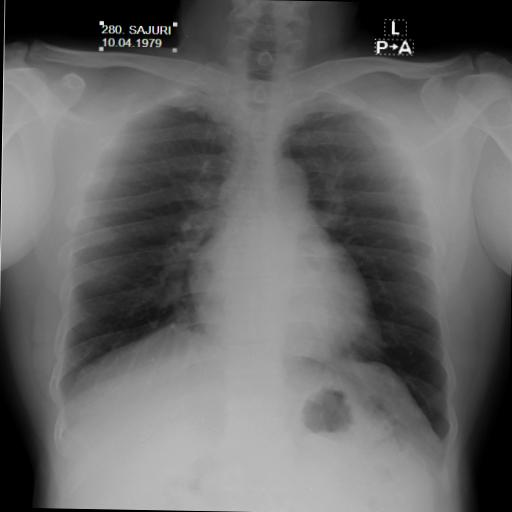kardiomegali: (44, 58, 470, 454)
